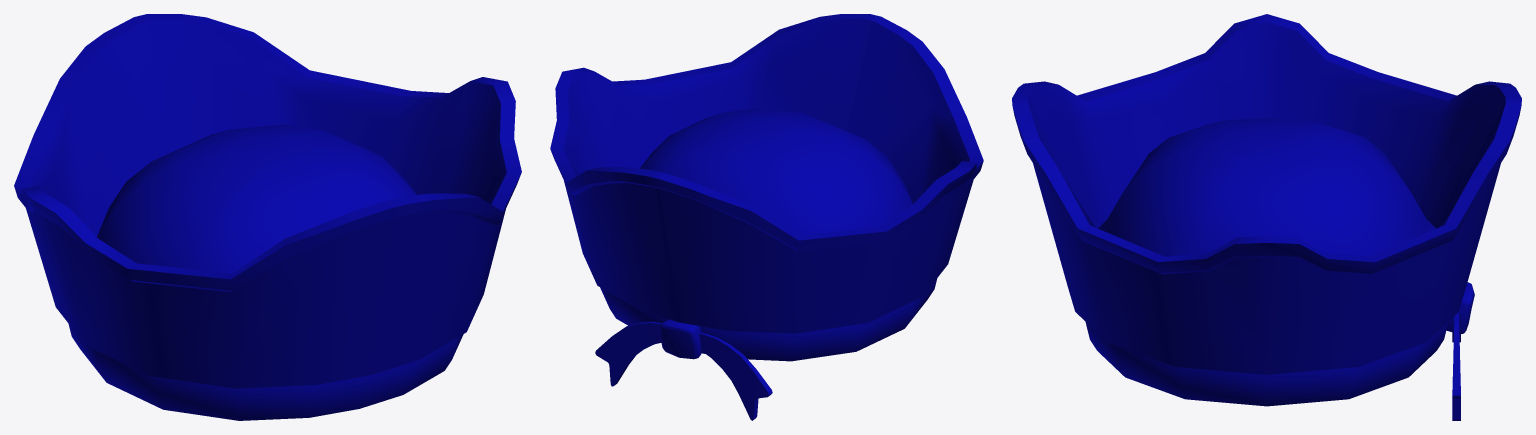
The model's file is PiratHat_01.fbx.
3 renders of one model, left to right at view 1: azimuth 30°, elevation 25°; view 2: azimuth 150°, elevation 25°; view 3: azimuth 270°, elevation 25°, orthographic. The views are drawn at different scales.
Visible parts, largest first — view 1: PiratHat_01; view 2: PiratHat_01; view 3: PiratHat_01.
Part boxes in pixels (left/top/right/bottom): PiratHat_01: left=14, top=14, right=521, bottom=420; PiratHat_01: left=550, top=14, right=983, bottom=420; PiratHat_01: left=1012, top=14, right=1521, bottom=420.
Bounding box in the file's own units: 77.84 × 44.77 × 73.37.
